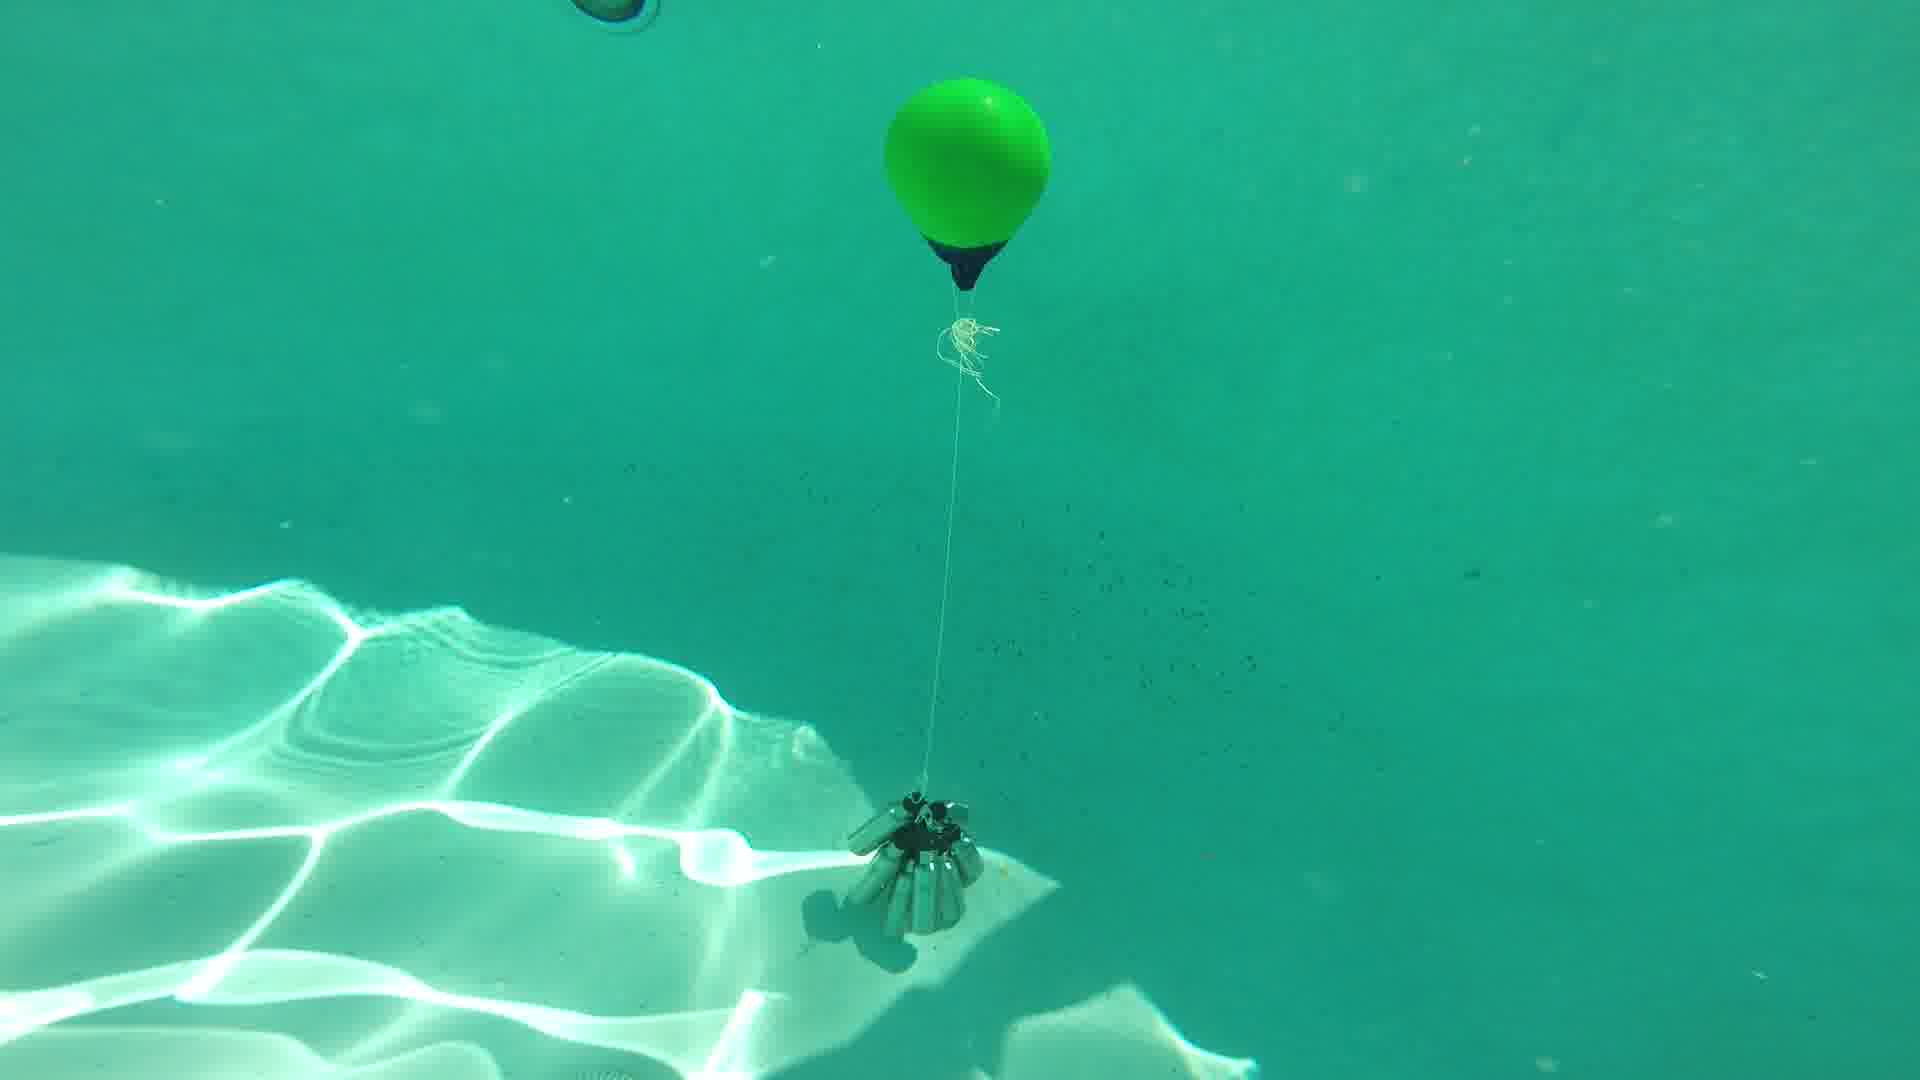yellow_buoy: (885, 75, 1054, 294)
